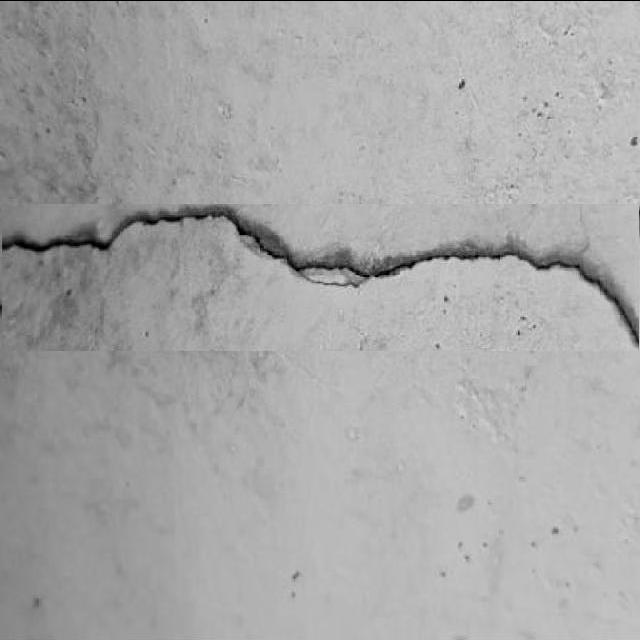Crack: (0, 200, 639, 351)
